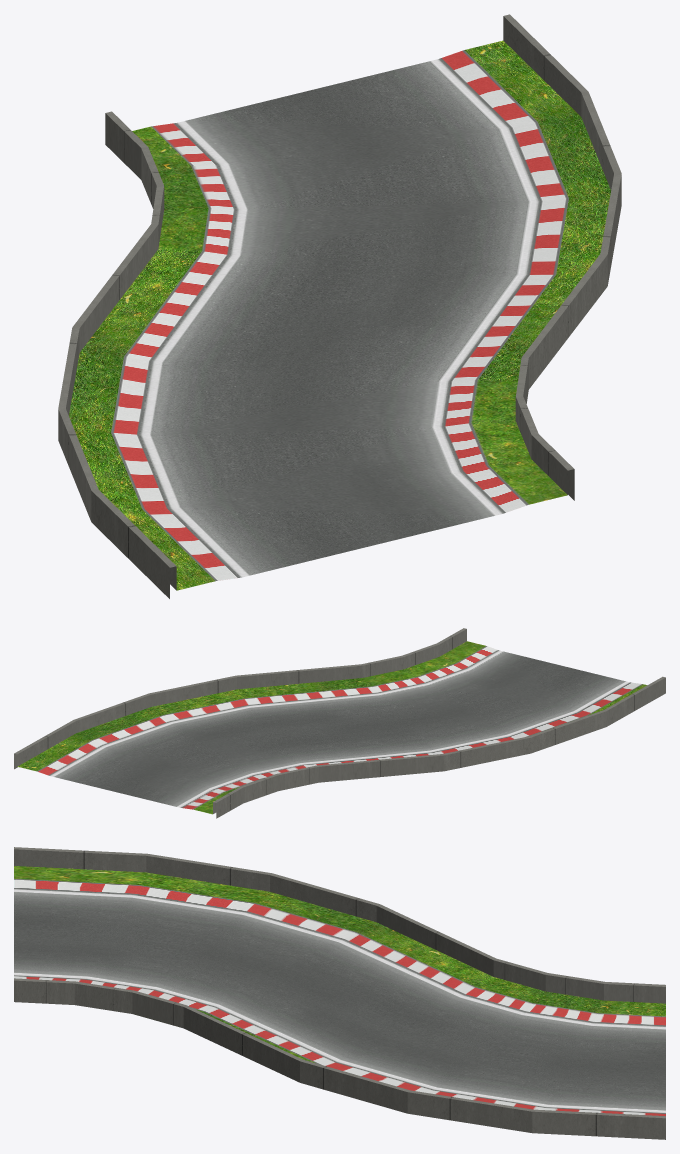
Rendered from turn_r_l.fbx.
3 views of the same model, one above another, from view 1: azimuth 30°, elevation 25°; view 2: azimuth 150°, elevation 25°; view 3: azimuth 270°, elevation 25° (orthographic). The views are drawn at different scales.
Visible parts, largest first — view 1: 3; view 2: 3; view 3: 3.
Part boxes in pixels (x1,y1,x2,y2): 3: (58, 14, 621, 598); 3: (14, 628, 665, 818); 3: (14, 847, 665, 1139).
Size of the model in its own units: 360 by 13.35 by 366.
